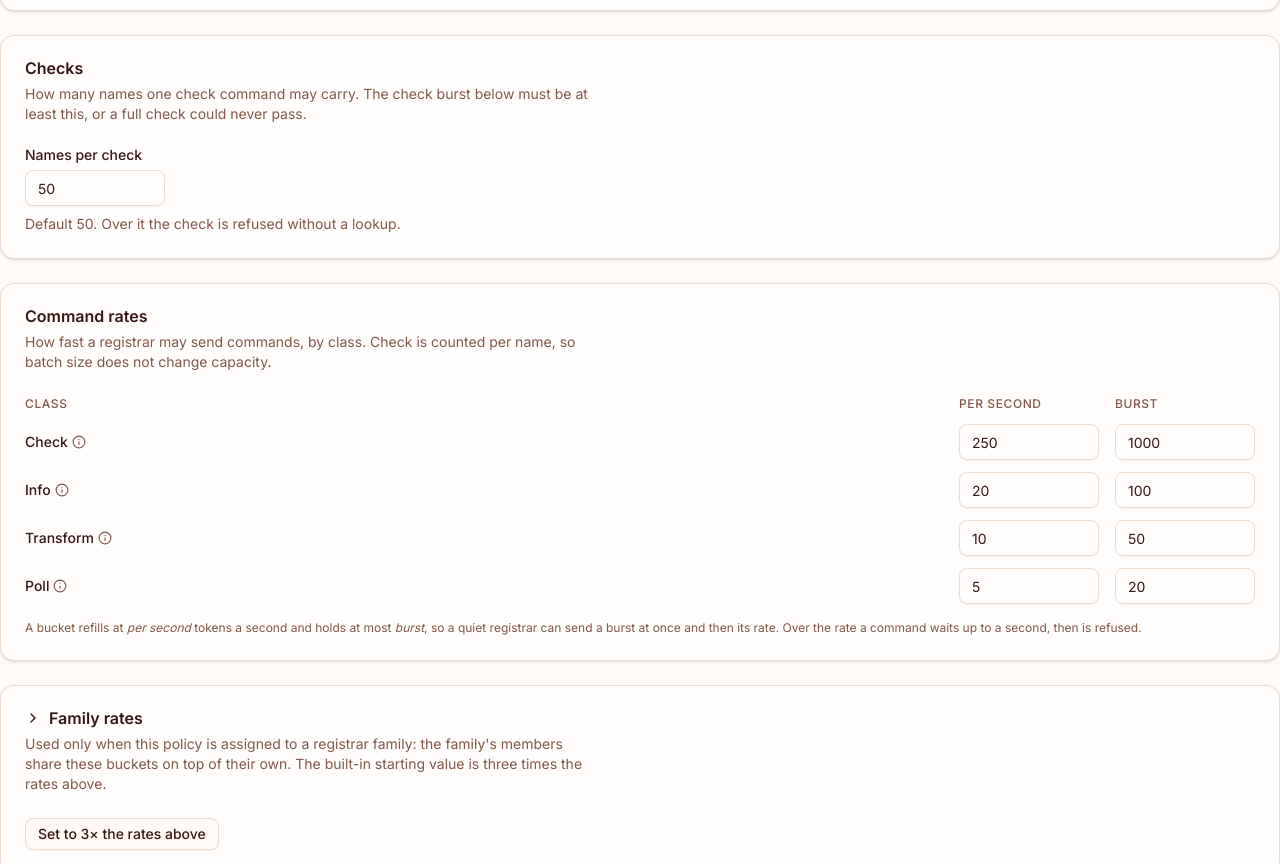
it: PolicyForm › refuses a check burst below the names per check, on the burst field
(page scrolled)
Replace the text in the number field named "Check burst" with "10": (1185, 442) [1115,424,1255,460]
(page scrolled)
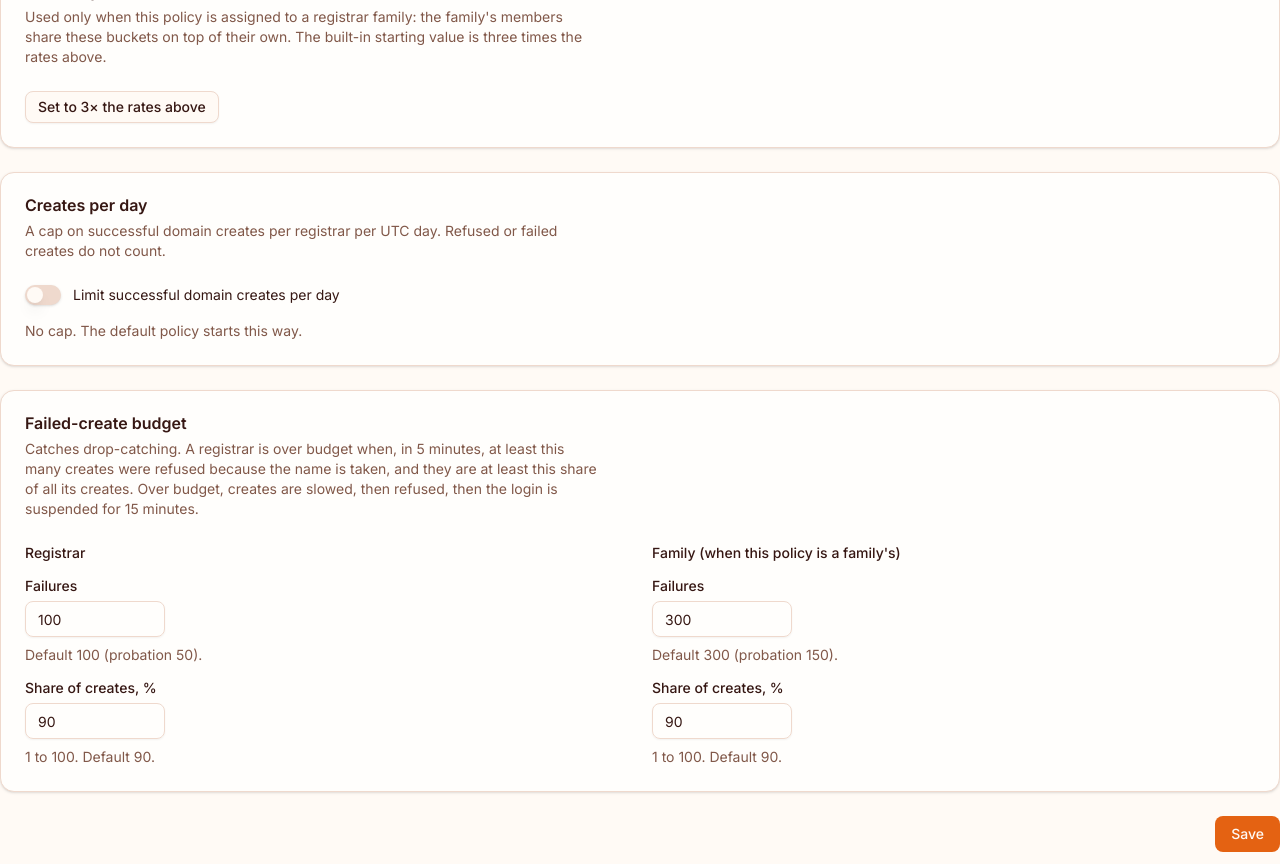
Click the button "Save": (1248, 834) [1215,816,1279,852]
(page scrolled)
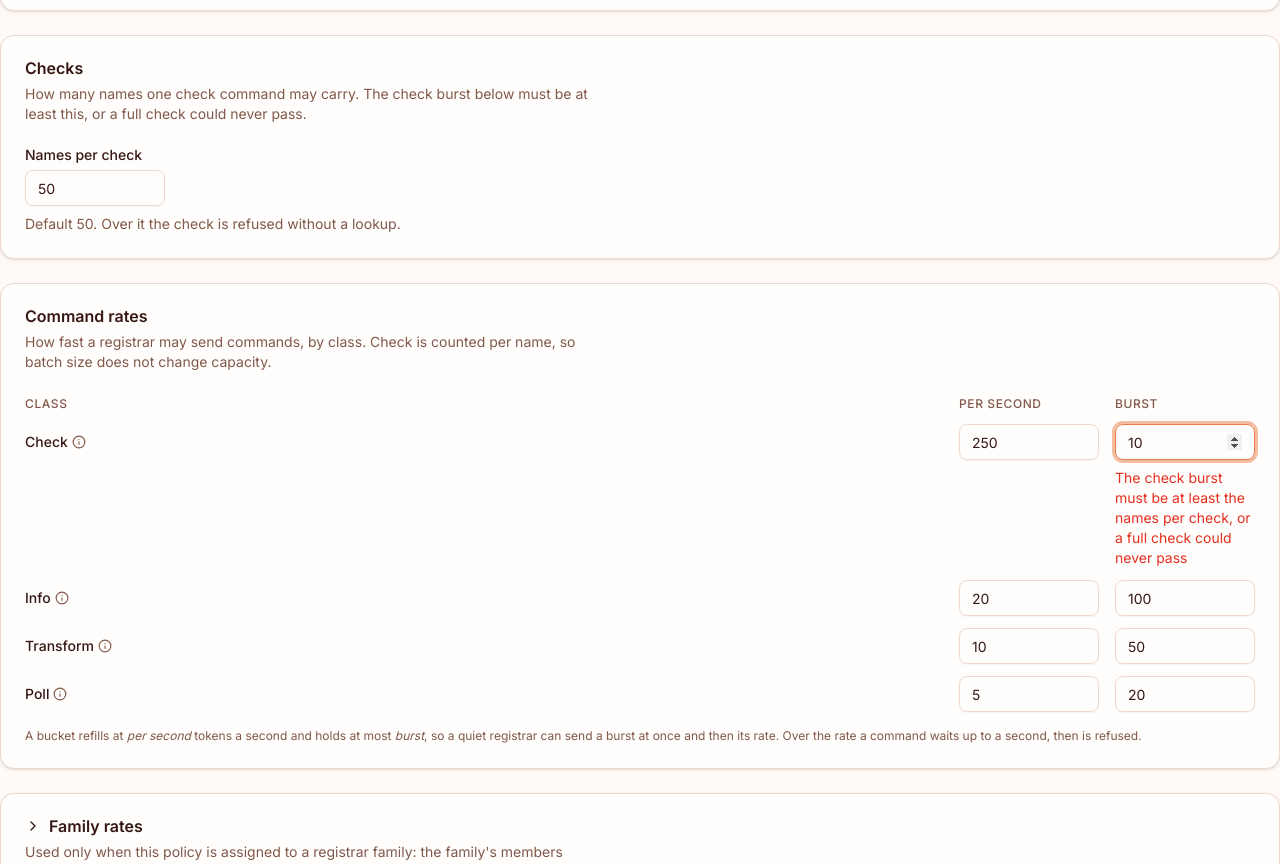
expect the text "check burst must be at least the names per check" is shown: met, box [1115,469,1251,566]
